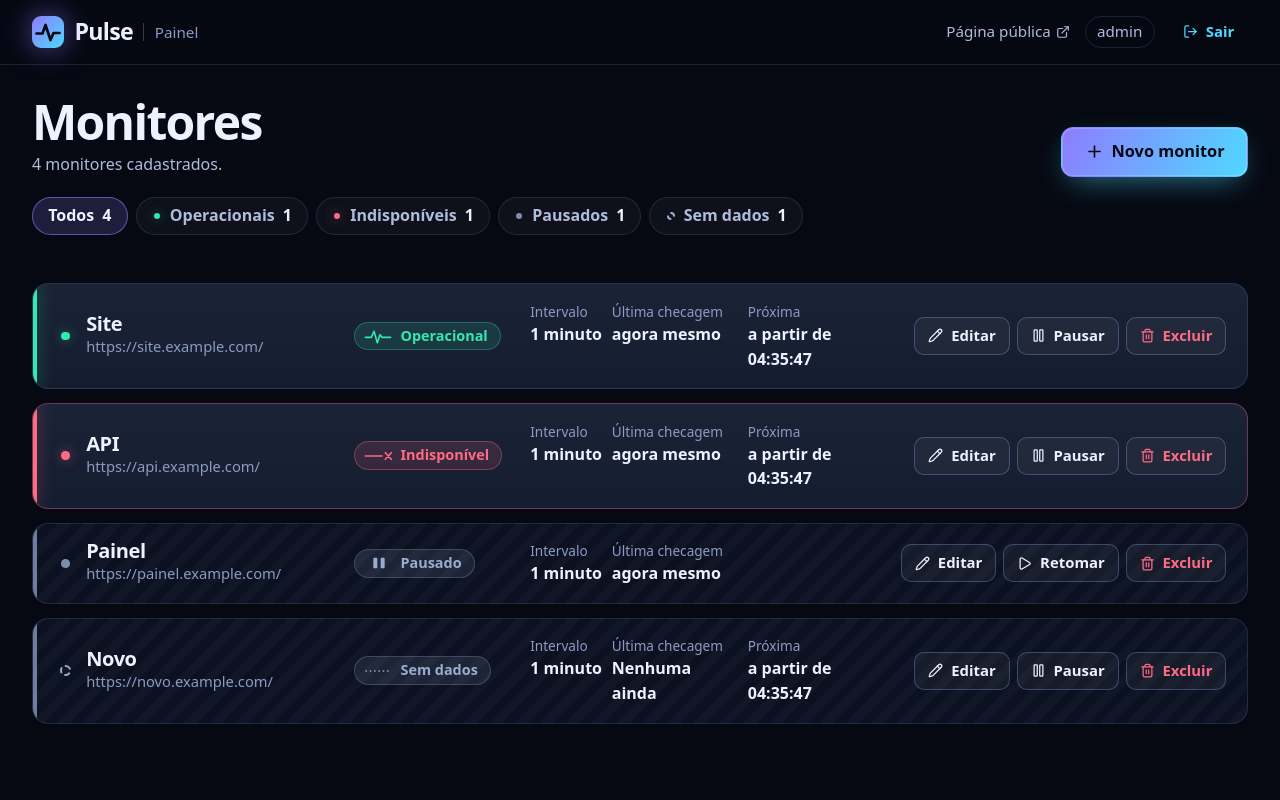
Test case: cadastro e edição › edição envia só o que mudou (PATCH) e nada se nada mudou
The width and height of the screenshot is (1280, 800).
Expected: the element "Site" is shown, [32,283,1248,389]
Click the button with aria-label "Editar Site" at (962, 336), box [914,317,1010,355]
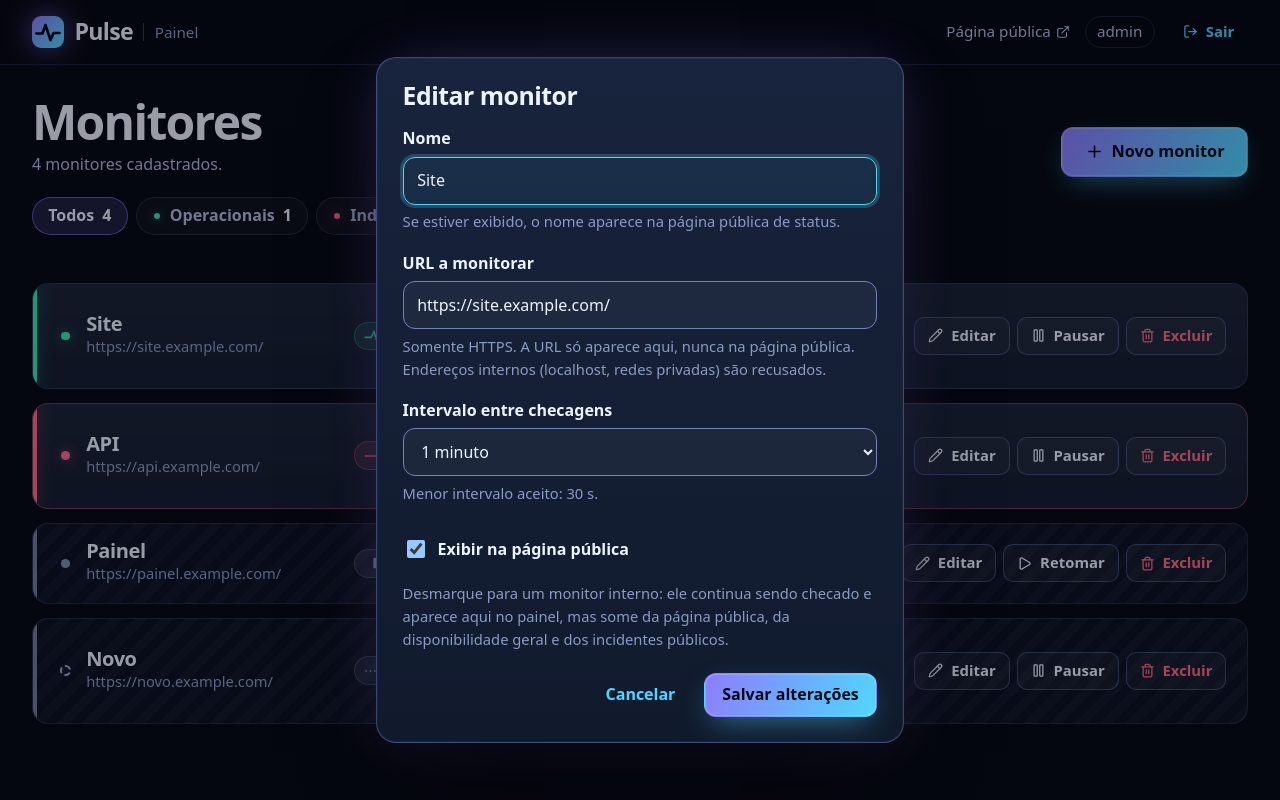
Now the field labelled "URL a monitorar" holds "https://site.example.com/", box [403,281,877,329]
Click the button "Salvar alterações" at (790, 695), box [704,673,877,717]
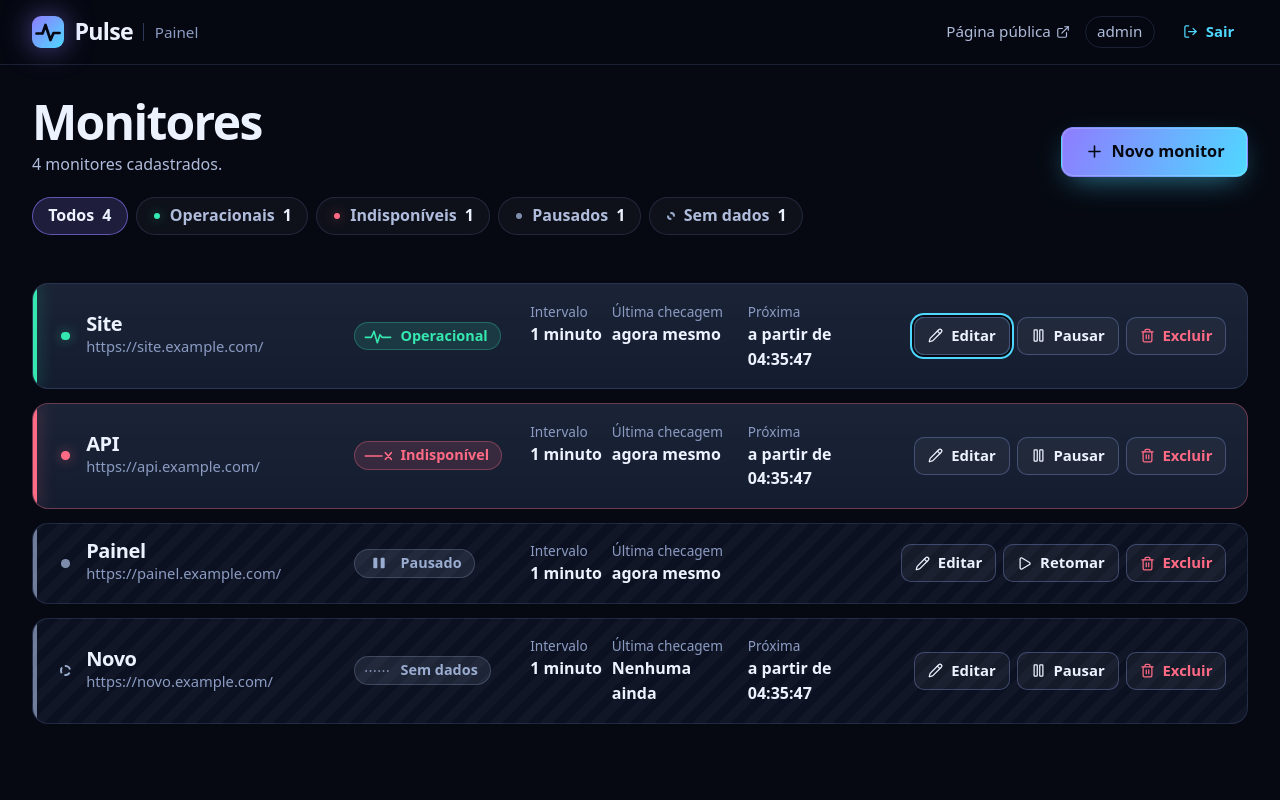
Now the dialog is gone
Click the button with aria-label "Editar Site" at (962, 336), box [914,317,1010,355]
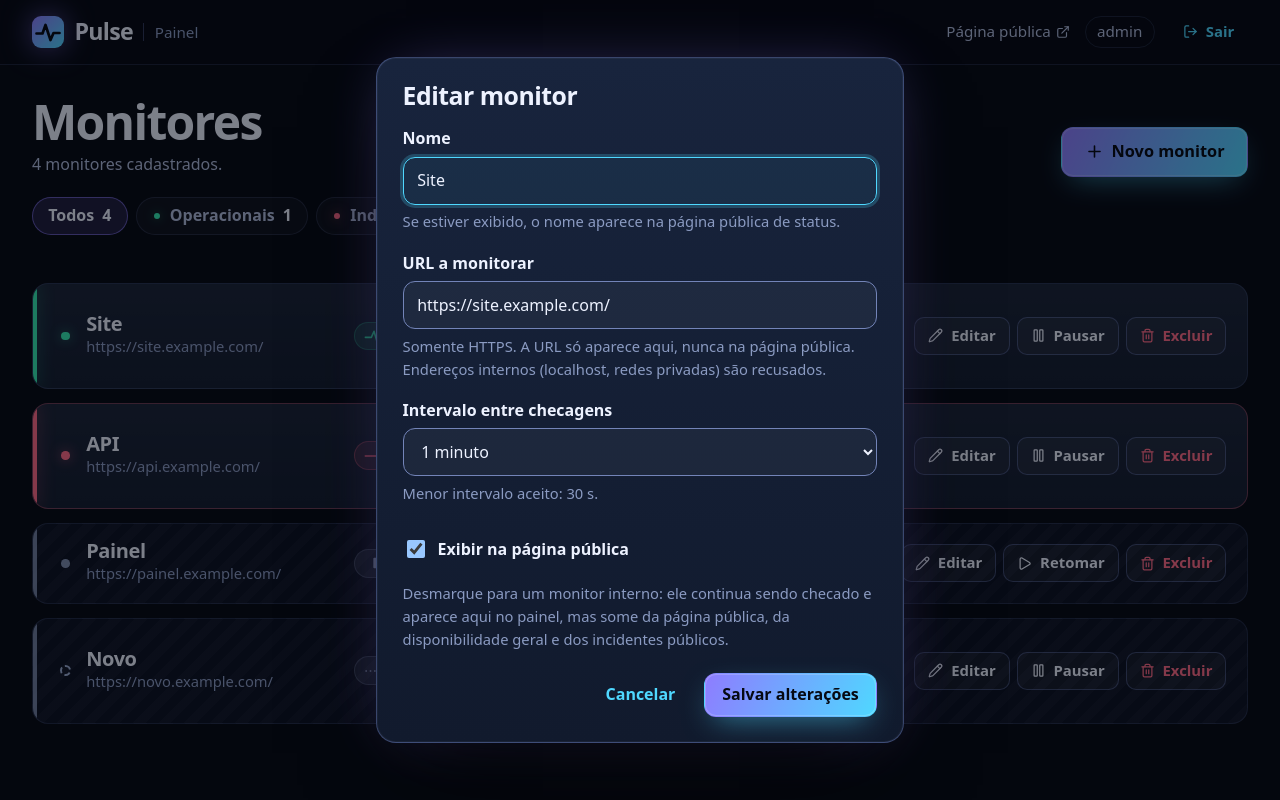
Replace the text in the field labelled "Nome" with "Site novo" at (640, 181), box [403,157,877,205]
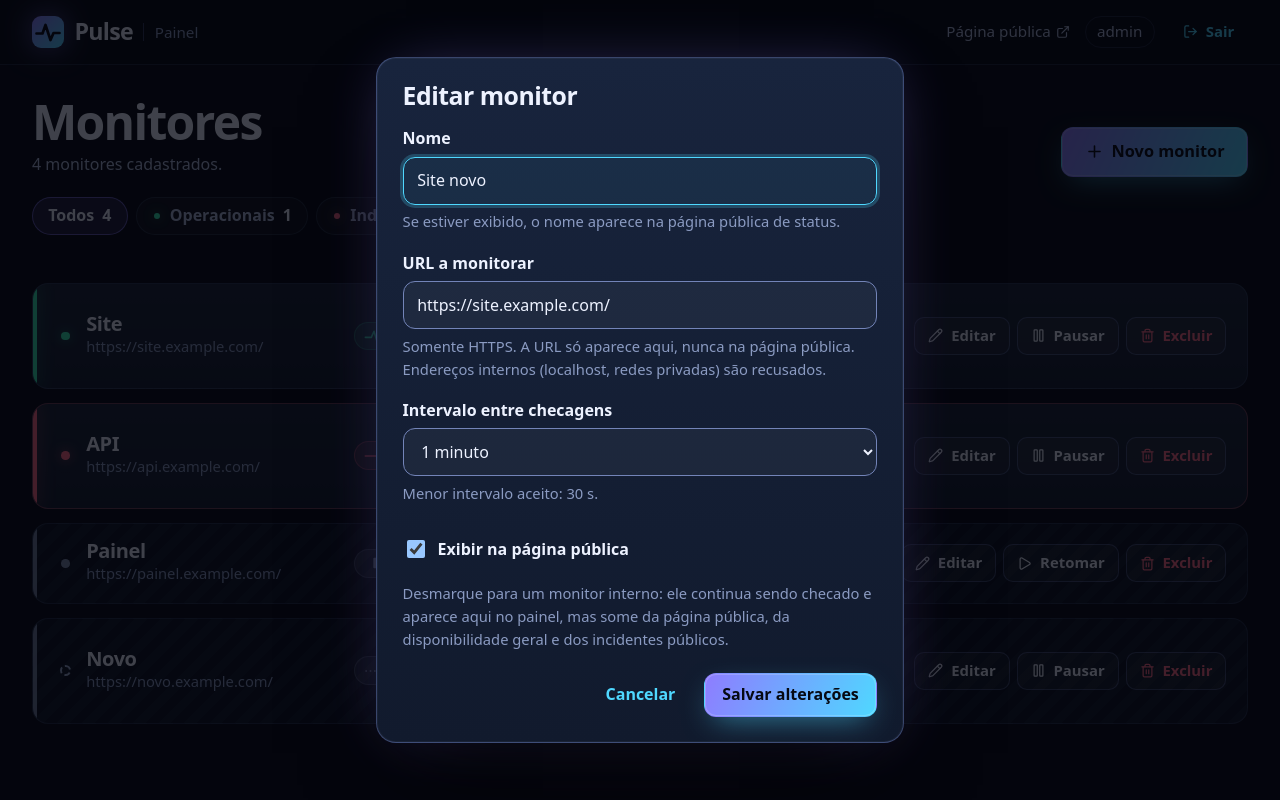
Click the button "Salvar alterações" at (790, 695), box [704,673,877,717]
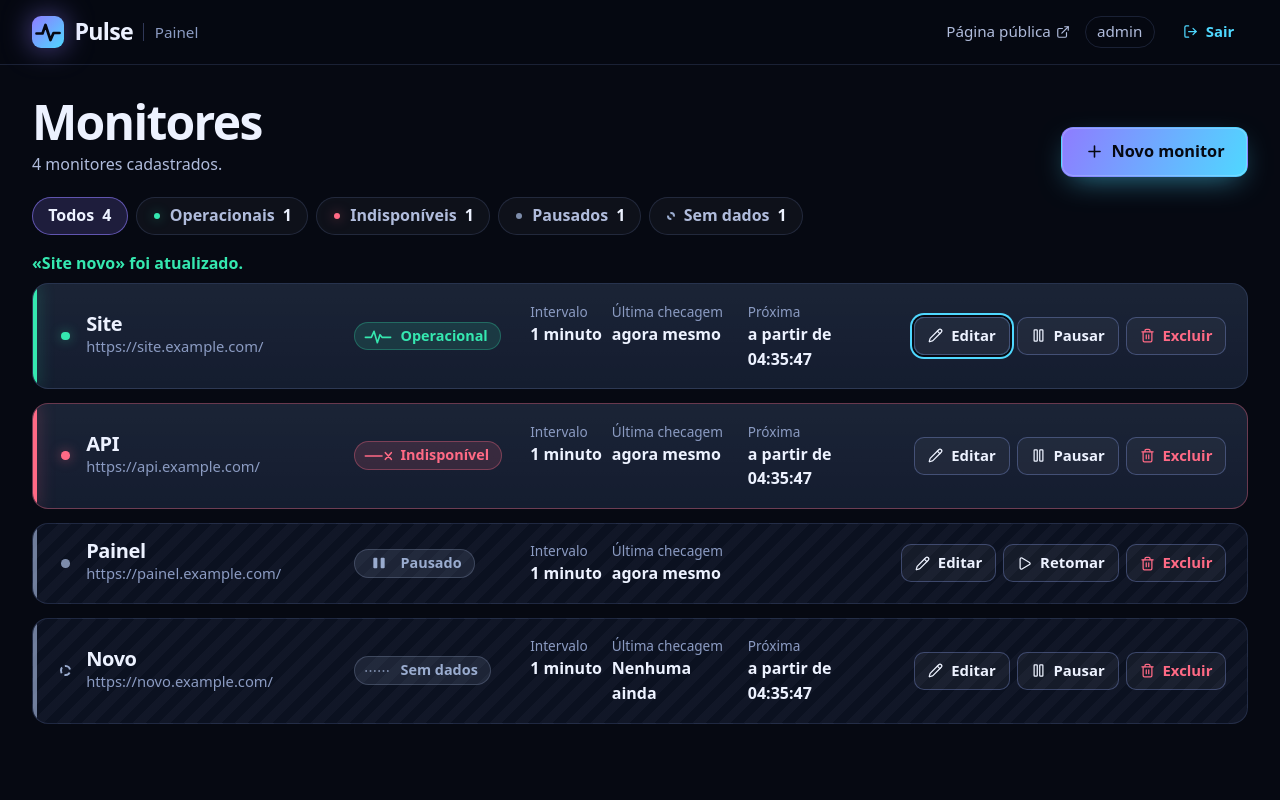
Now the text "«Site novo» foi atualizado." is shown, box [32,252,243,274]
